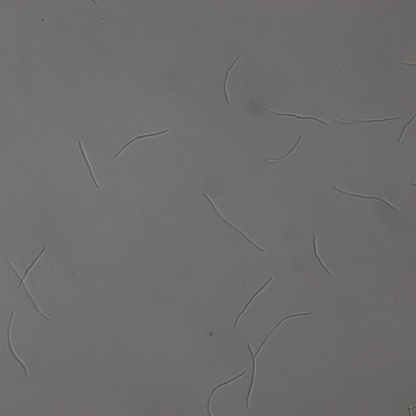Sensitive: (245, 313, 312, 413), (7, 243, 52, 322), (203, 194, 264, 251), (233, 277, 271, 327), (204, 371, 245, 416), (336, 188, 401, 213), (5, 309, 28, 374), (116, 130, 168, 156), (269, 133, 305, 163), (221, 55, 242, 104), (78, 138, 98, 188), (268, 110, 328, 125), (311, 234, 332, 274), (334, 116, 400, 125)
